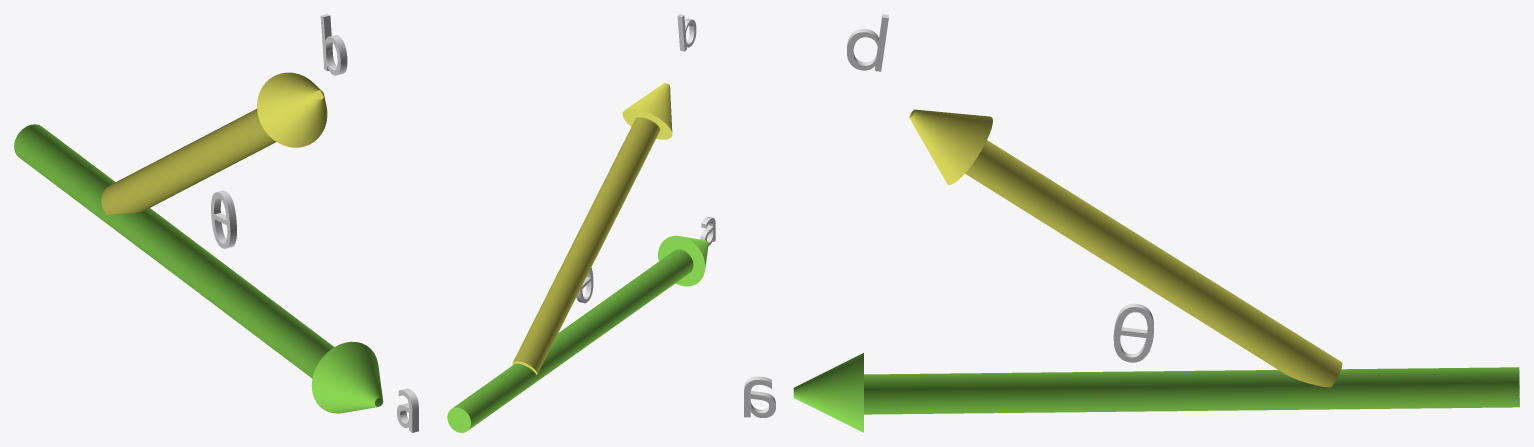
3 renders of one model, left to right at view 1: azimuth 30°, elevation 25°; view 2: azimuth 150°, elevation 25°; view 3: azimuth 270°, elevation 25°, orthographic. The views are drawn at different scales.
Visible parts, largest first — view 1: Cylinder.025, Cylinder.024, Cone.018, Cone.019, θ, b.004, Cap:2.006, a.004, Cap:2_1.006; view 2: Cylinder.024, Cylinder.025, Cone.018, Cone.019, b.004; view 3: Cylinder.025, Cylinder.024, Cone.018, Cone.019, Cap:1.006, Cap:1_1.006.
Boxes of the visible parts, x1,y1,x2,y2 form: Cylinder.025: [14, 124, 334, 378]; Cylinder.024: [101, 109, 276, 215]; Cone.018: [257, 72, 327, 147]; Cone.019: [311, 341, 383, 413]; θ: [214, 190, 236, 248]; b.004: [321, 14, 347, 75]; Cap:2.006: [211, 192, 230, 248]; a.004: [399, 388, 418, 432]; Cap:2_1.006: [320, 16, 340, 75]; Cylinder.024: [512, 117, 660, 374]; Cylinder.025: [447, 249, 693, 432]; Cone.018: [622, 83, 672, 139]; Cone.019: [658, 235, 708, 286]; b.004: [677, 14, 694, 51]; Cylinder.025: [864, 367, 1519, 414]; Cylinder.024: [965, 140, 1342, 387]; Cone.018: [909, 109, 992, 184]; Cone.019: [793, 353, 863, 432]; Cap:1.006: [1113, 307, 1153, 362]; Cap:1_1.006: [847, 17, 888, 71].
Size of the model in its own units: 0.0207 by 0.112 by 0.1925.
